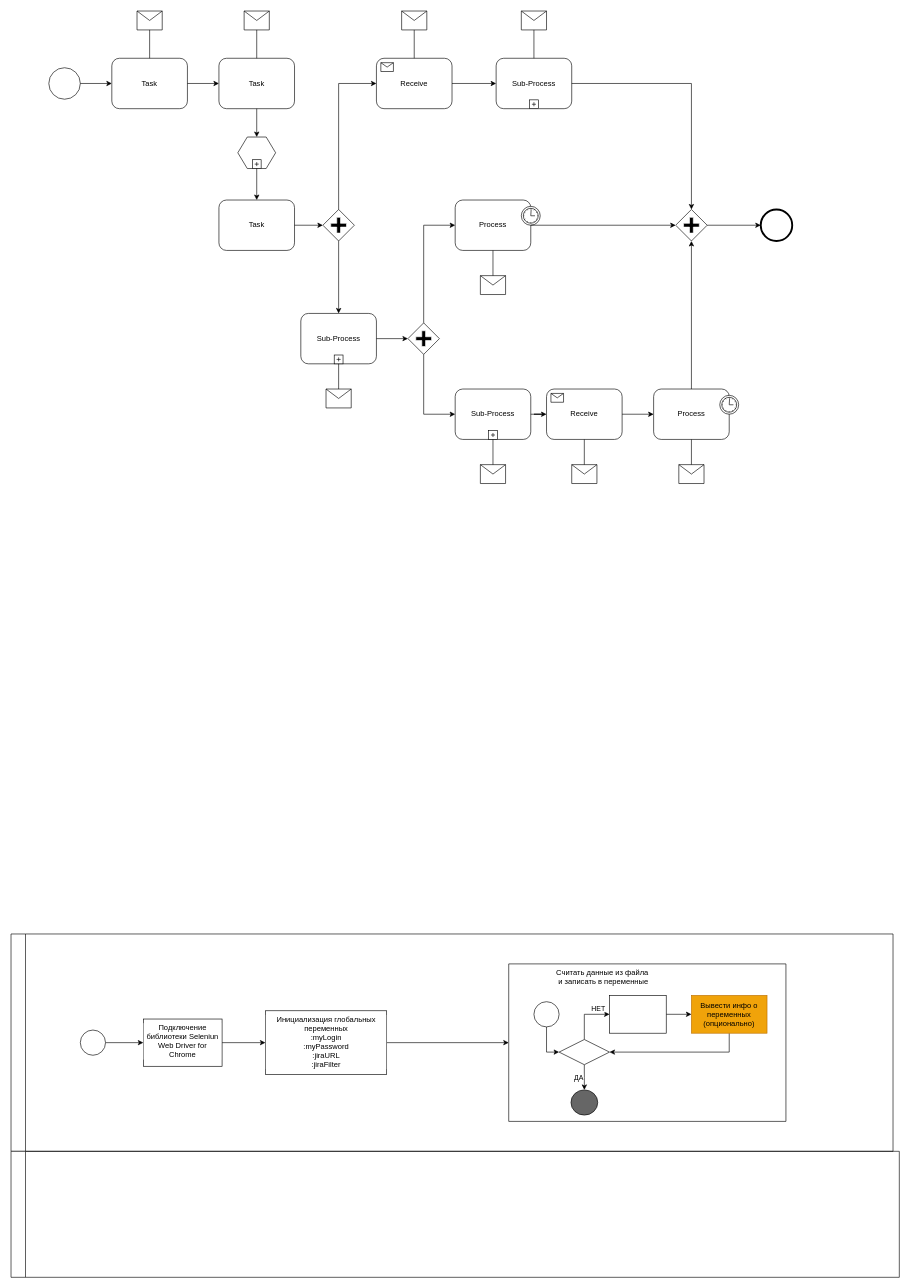
The diagram is 910 pixels wide and 1288 high, and some of its shapes have lost their labels. Here are the shapes that lost their labels. From the top down, the box of each, then its label:
(609, 995, 666, 1033): Записать строку в переменную N
(10, 933, 893, 1151): Class Main
(558, 1039, 610, 1065): line != null?
(10, 1151, 899, 1277): Class Waiting
